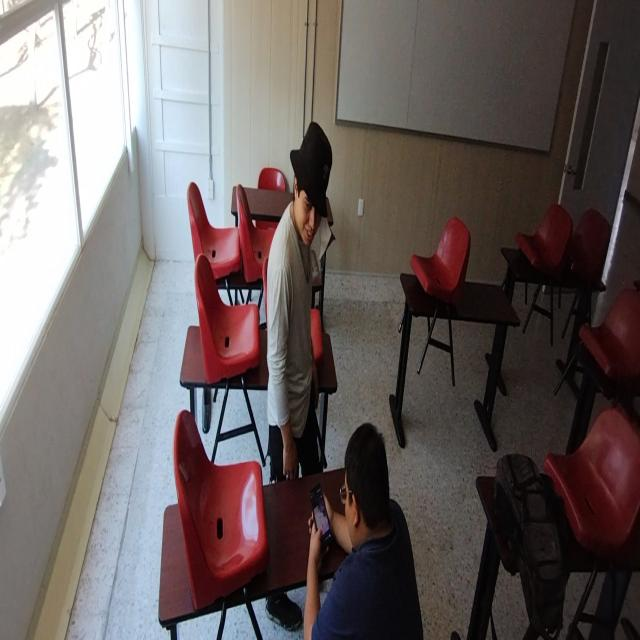adult: (262, 120, 331, 628), (306, 425, 423, 640)
